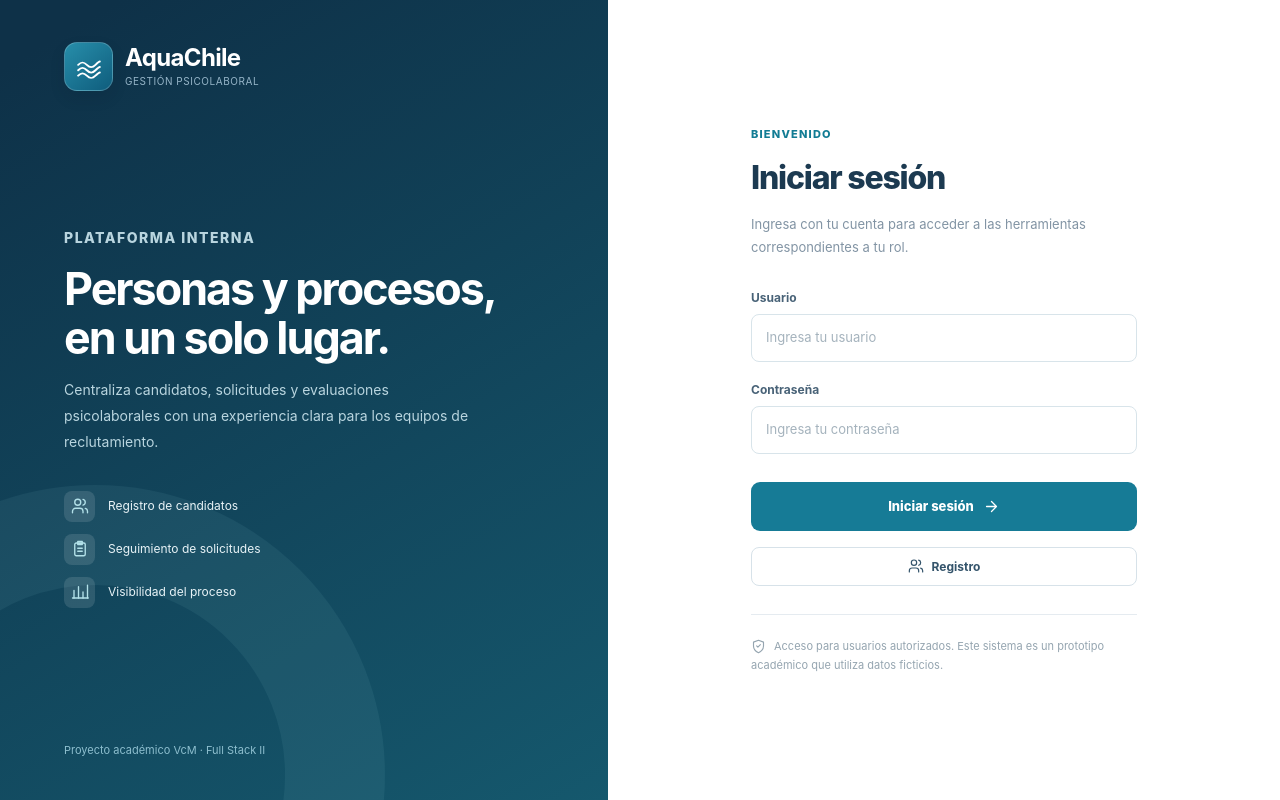
Scenario: Pruebas unitarias e integradas - Login, Registro y Verificación › debe mostrar una alerta de error ante credenciales incorrectas o cuenta no verificada (HTTP 401)
Type "usuario_invalido" into the field labelled "Usuario". click: (944, 338)
box: top-left (751, 314), bottom-right (1137, 362)
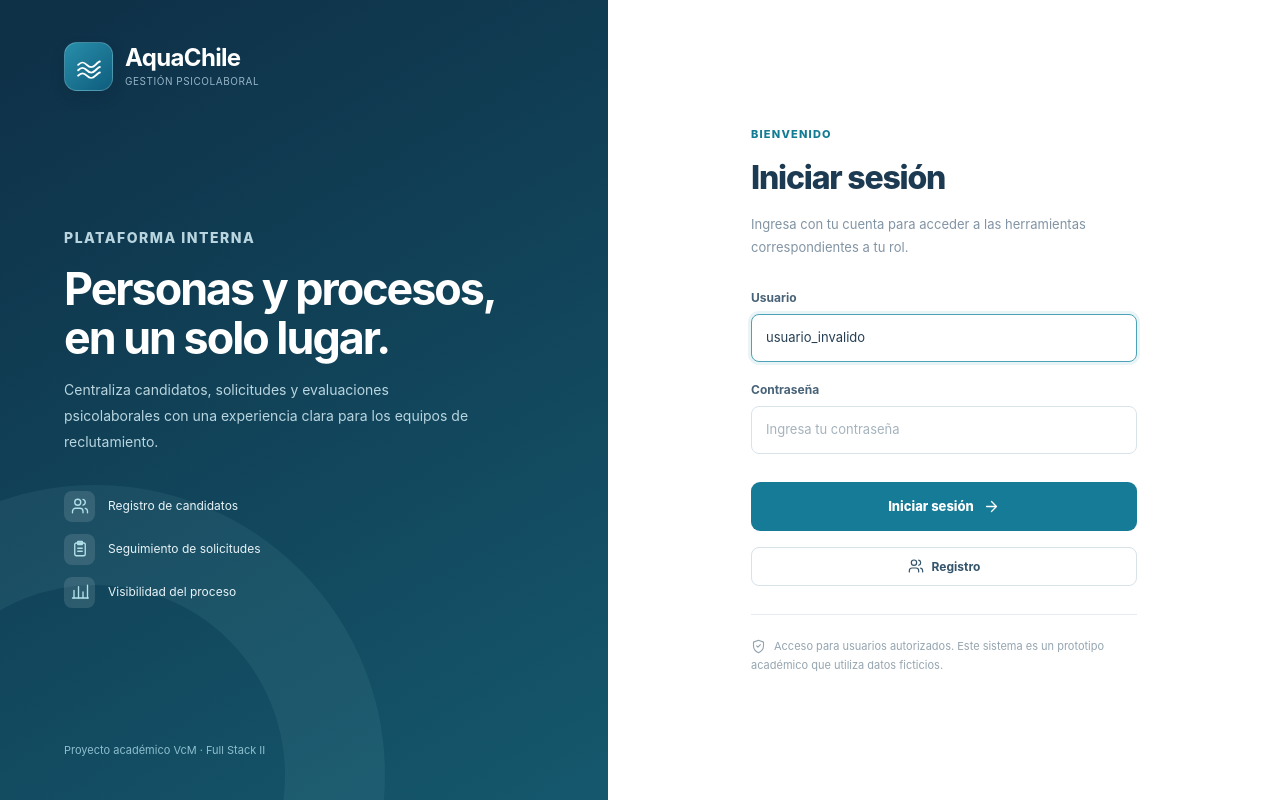
Type "clave_erronea" into the password field labelled "Contraseña". click: (944, 430)
box: top-left (751, 406), bottom-right (1137, 454)
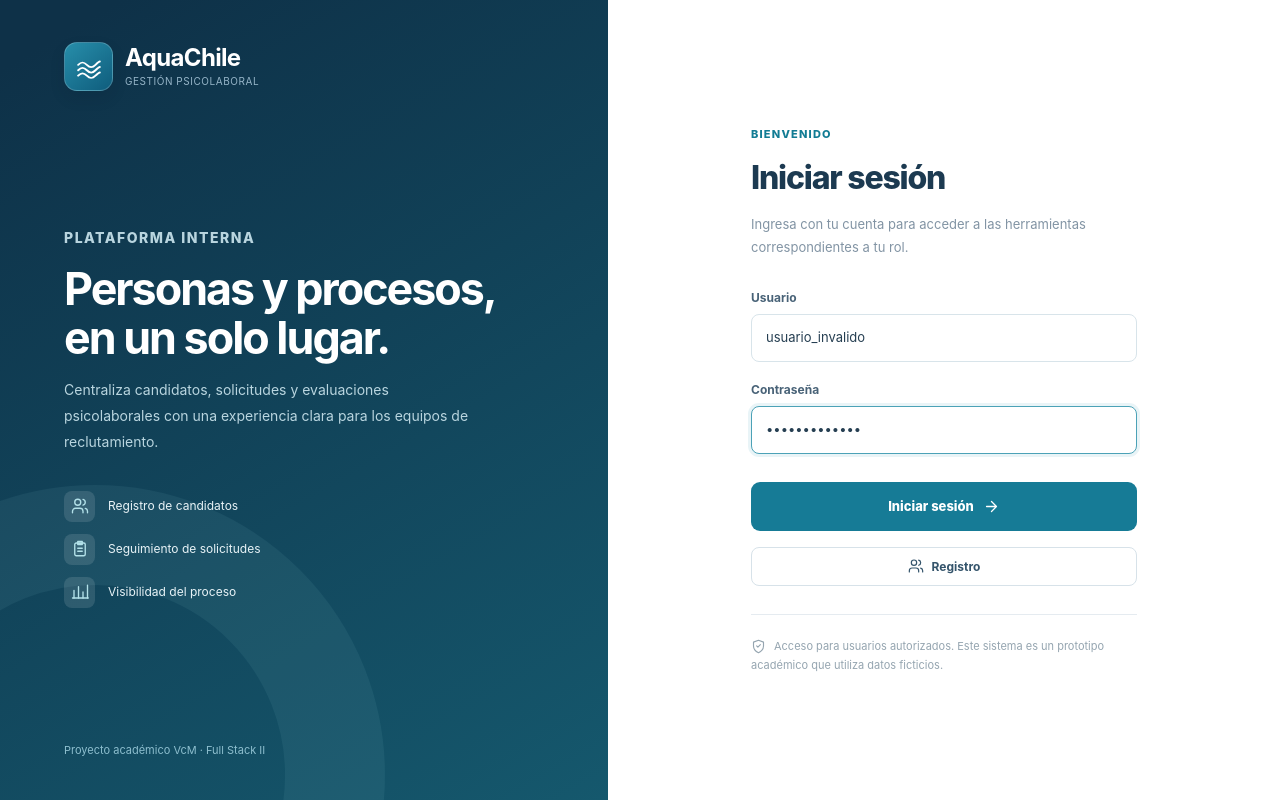
Click the button "Iniciar sesión". click: (944, 506)
box: top-left (751, 482), bottom-right (1137, 531)
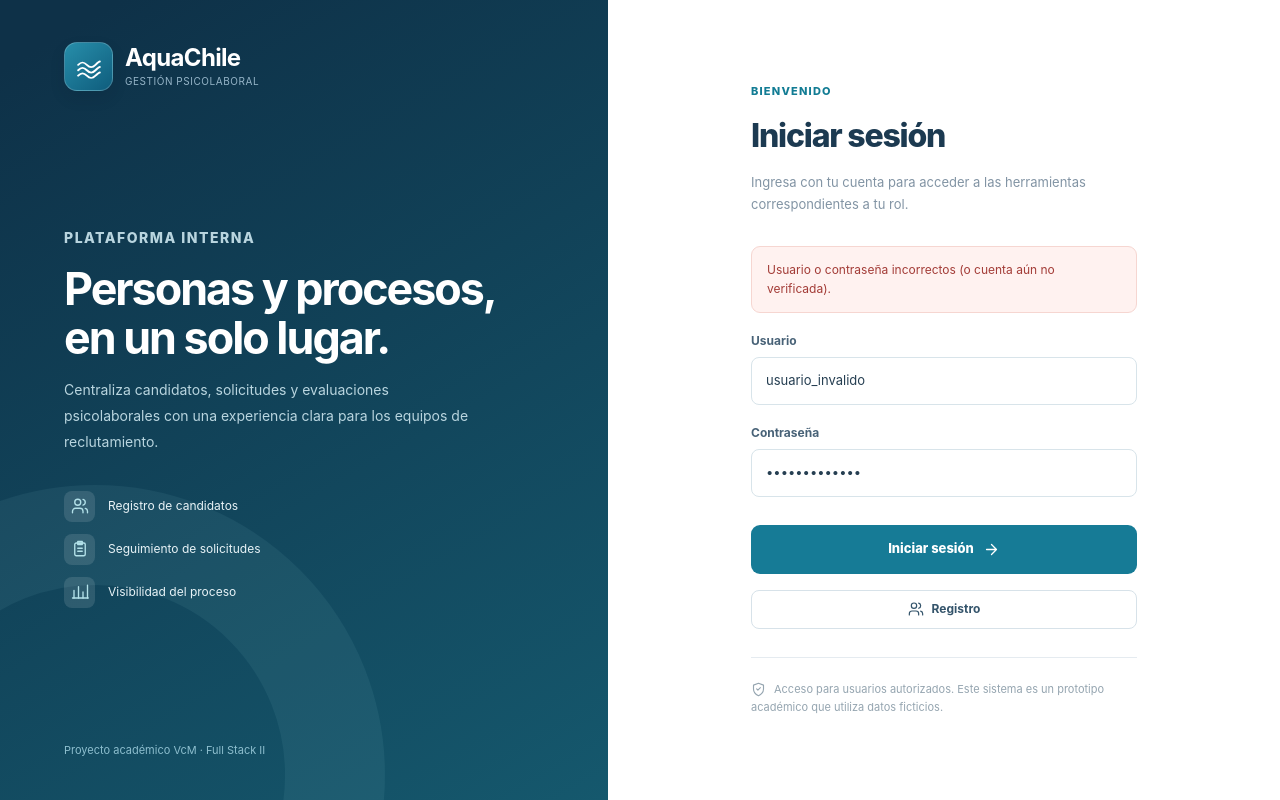
Expected: the message reads "Usuario o contraseña incorrectos (o cuenta aún no verificada).", top-left (767, 262), bottom-right (1055, 296)
